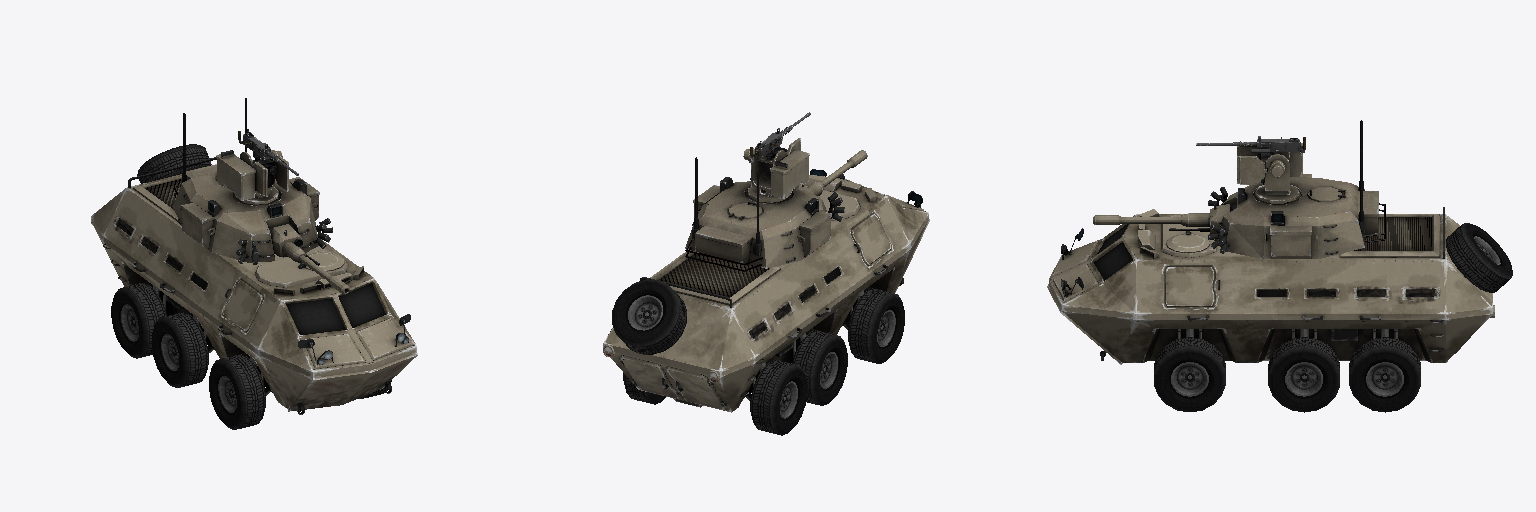
The picture shows the model from 3 angles: view 1: azimuth 30°, elevation 25°; view 2: azimuth 150°, elevation 25°; view 3: azimuth 270°, elevation 25°; orthographic projection.
Parts seen in each view (by area): view 1: BODY_body; view 2: BODY_body; view 3: BODY_body.
Part boxes in pixels (bbox=[...]): BODY_body: bbox=[91, 98, 417, 429]; BODY_body: bbox=[603, 112, 929, 435]; BODY_body: bbox=[1047, 120, 1512, 412].
Bounding box in the file's own units: 2.62 × 3.96 × 6.92.
4 materials, 4 textured.